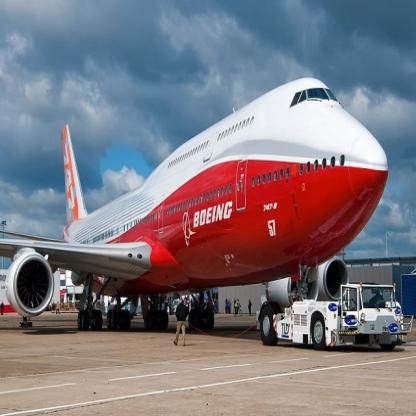CIV_Plane: (0, 72, 395, 330)
